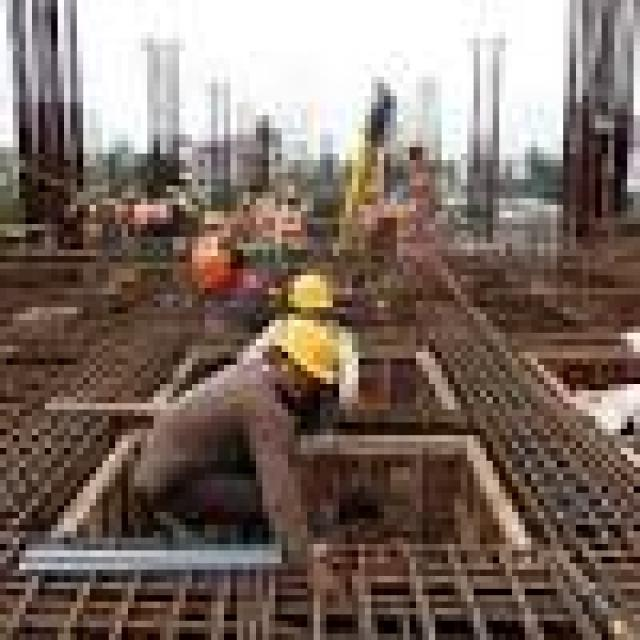Safety-Helmet: (243, 307, 371, 403), (275, 262, 352, 320)
